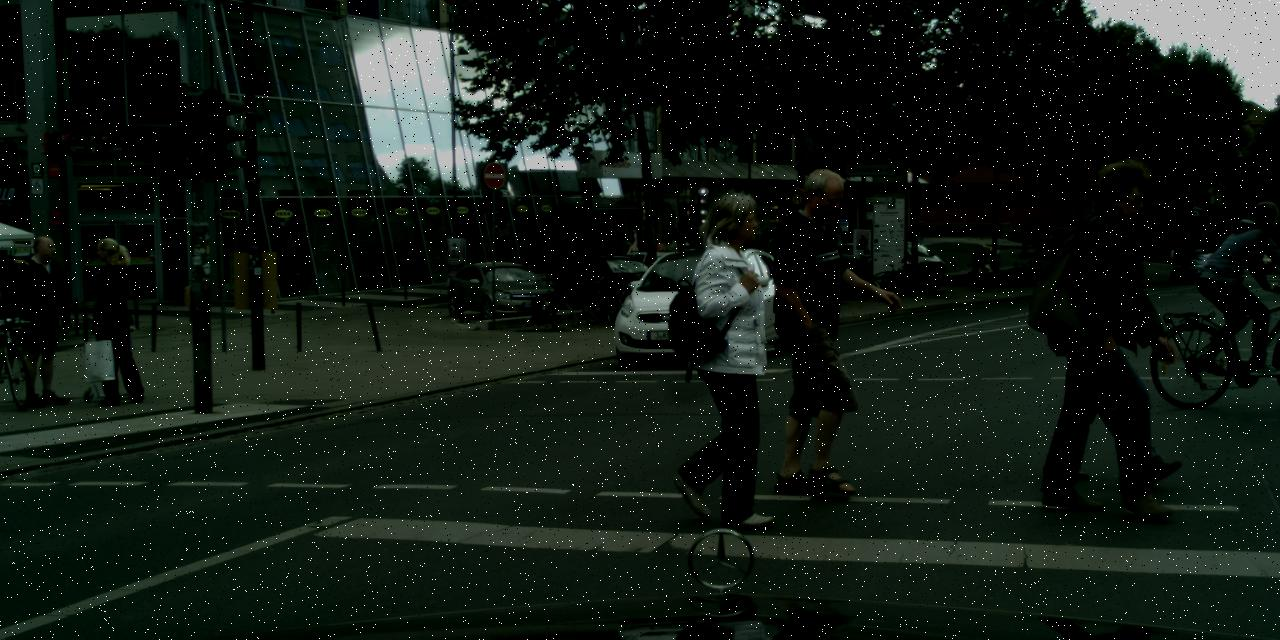ped: (1050, 156, 1196, 514), (658, 188, 795, 524), (753, 169, 886, 494), (1046, 162, 1176, 482), (9, 235, 79, 407), (82, 237, 150, 405), (1217, 200, 1279, 374), (91, 296, 132, 396), (622, 229, 644, 281), (540, 241, 559, 290), (970, 244, 986, 284), (662, 235, 678, 272), (650, 238, 664, 276), (1170, 242, 1190, 264), (1020, 235, 1028, 257)
